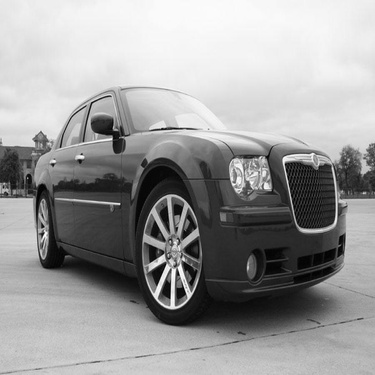car: (26, 78, 360, 333), (1, 173, 15, 205)
